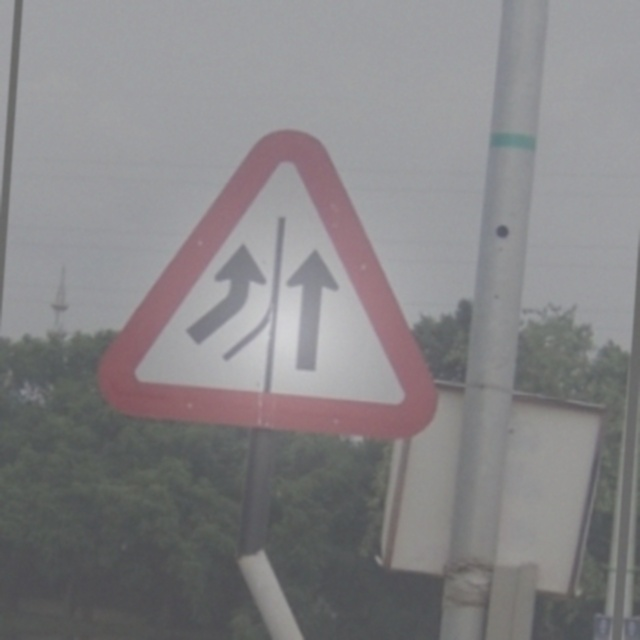Merge_Traffic_Ahead: (89, 112, 465, 459)
